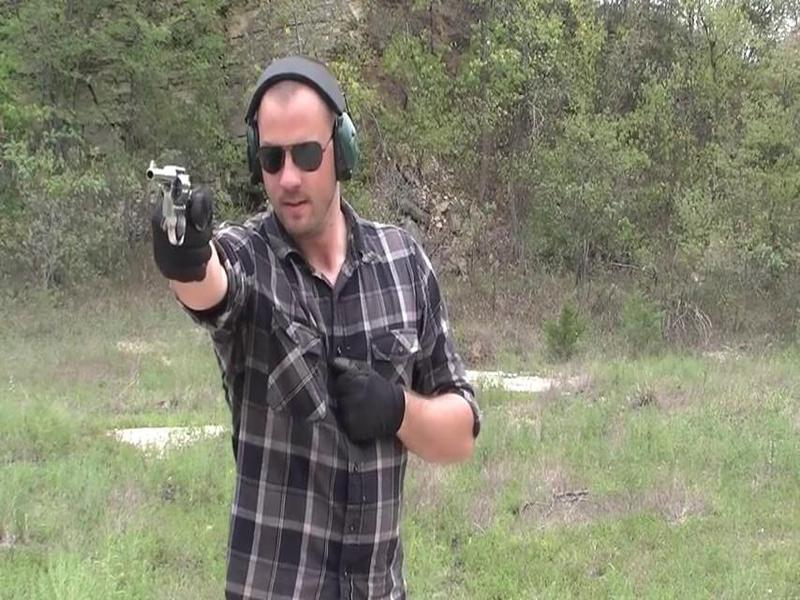Revolver: (134, 151, 204, 257)
